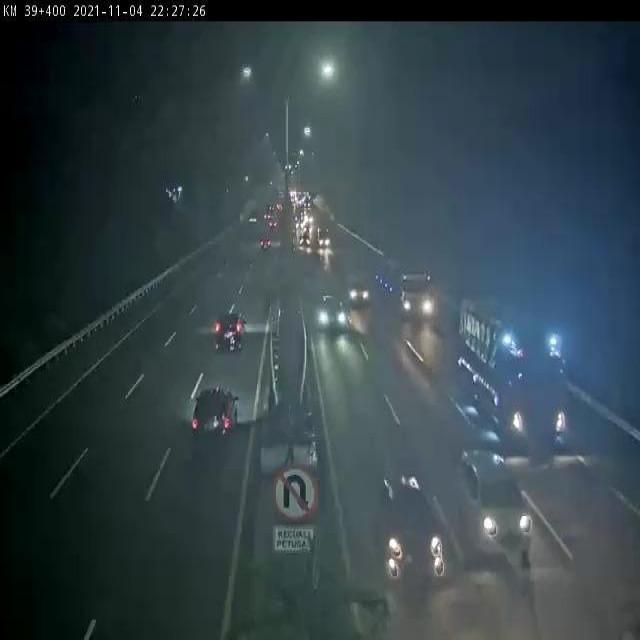car: (459, 450, 532, 554), (375, 473, 445, 579), (191, 388, 238, 443), (214, 312, 248, 351), (315, 295, 345, 332), (347, 280, 370, 305)
truck-l-: (456, 298, 566, 442)
truck-xl-: (369, 257, 434, 319)
